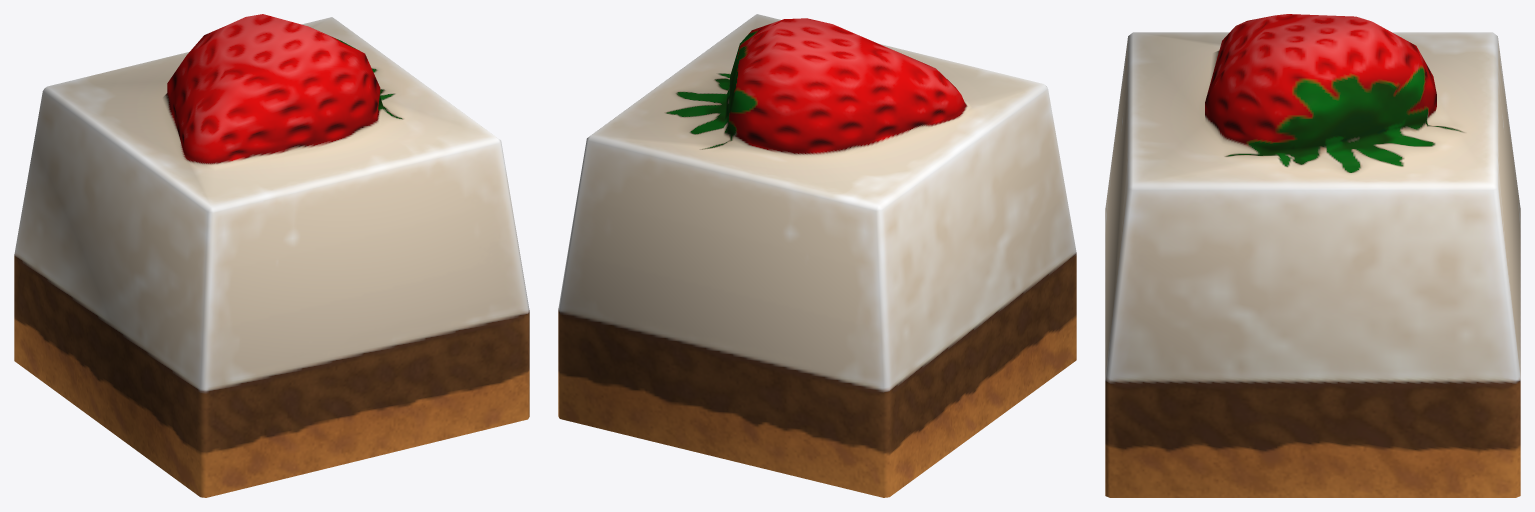
File: BuffetDesserts01_5.FBX
3 renders of one model, left to right at view 1: azimuth 30°, elevation 25°; view 2: azimuth 150°, elevation 25°; view 3: azimuth 270°, elevation 25°, orthographic. The views are drawn at different scales.
Parts seen in each view (by area): view 1: BuffetDesserts01_5; view 2: BuffetDesserts01_5; view 3: BuffetDesserts01_5.
Part boxes in pixels (bbox=[...]): BuffetDesserts01_5: bbox=[14, 14, 529, 497]; BuffetDesserts01_5: bbox=[558, 14, 1076, 497]; BuffetDesserts01_5: bbox=[1105, 14, 1520, 497].
Size of what is drawn, in the model's own units: 0.093 by 0.0953 by 0.0931.
